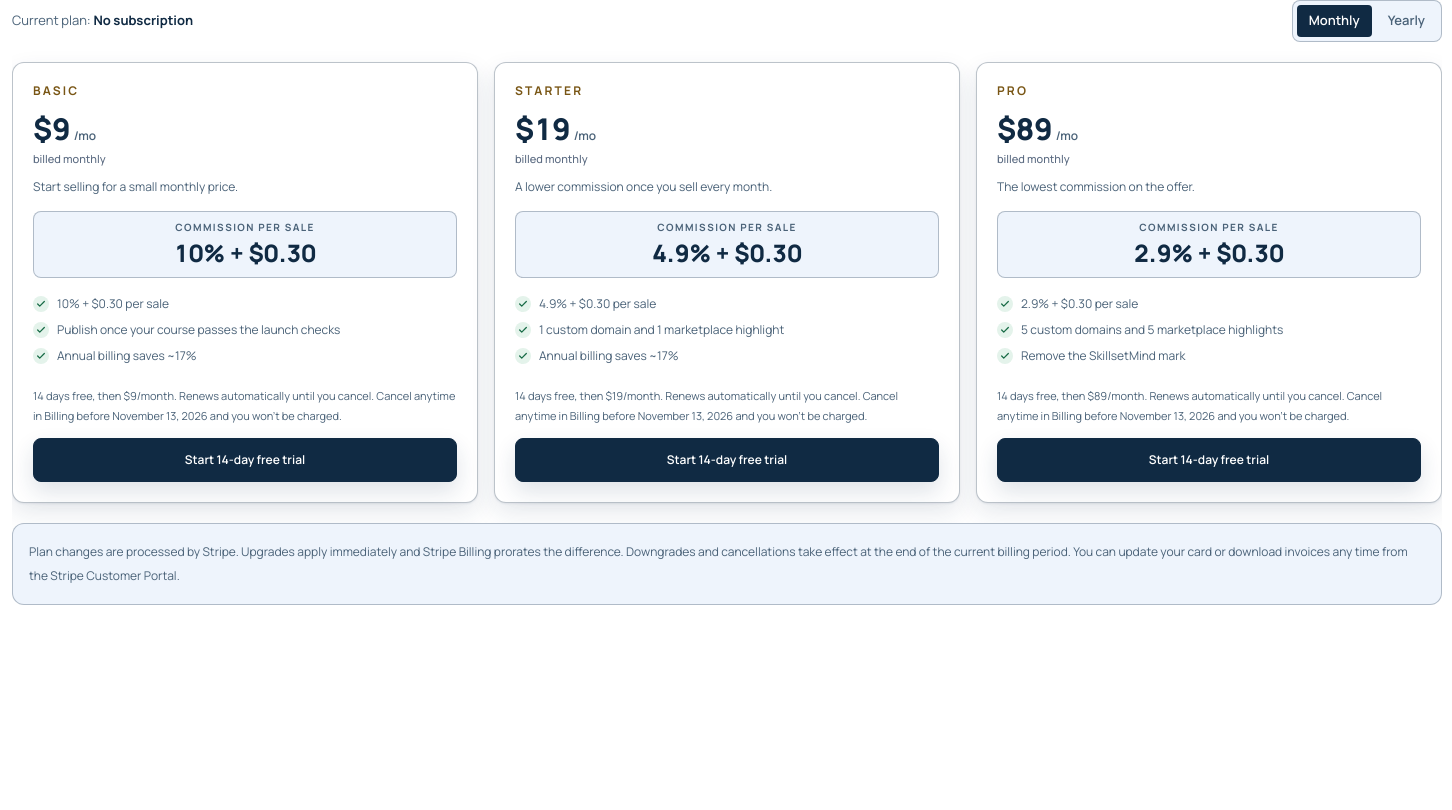
Test: PlansPanel com os 2 planos e o teste gratis › oferece o teste de 14 dias com os termos de renovacao junto do botao
Click the radio button labelled "Yearly" at (1406, 21), box left=1376, top=5, right=1437, bottom=36
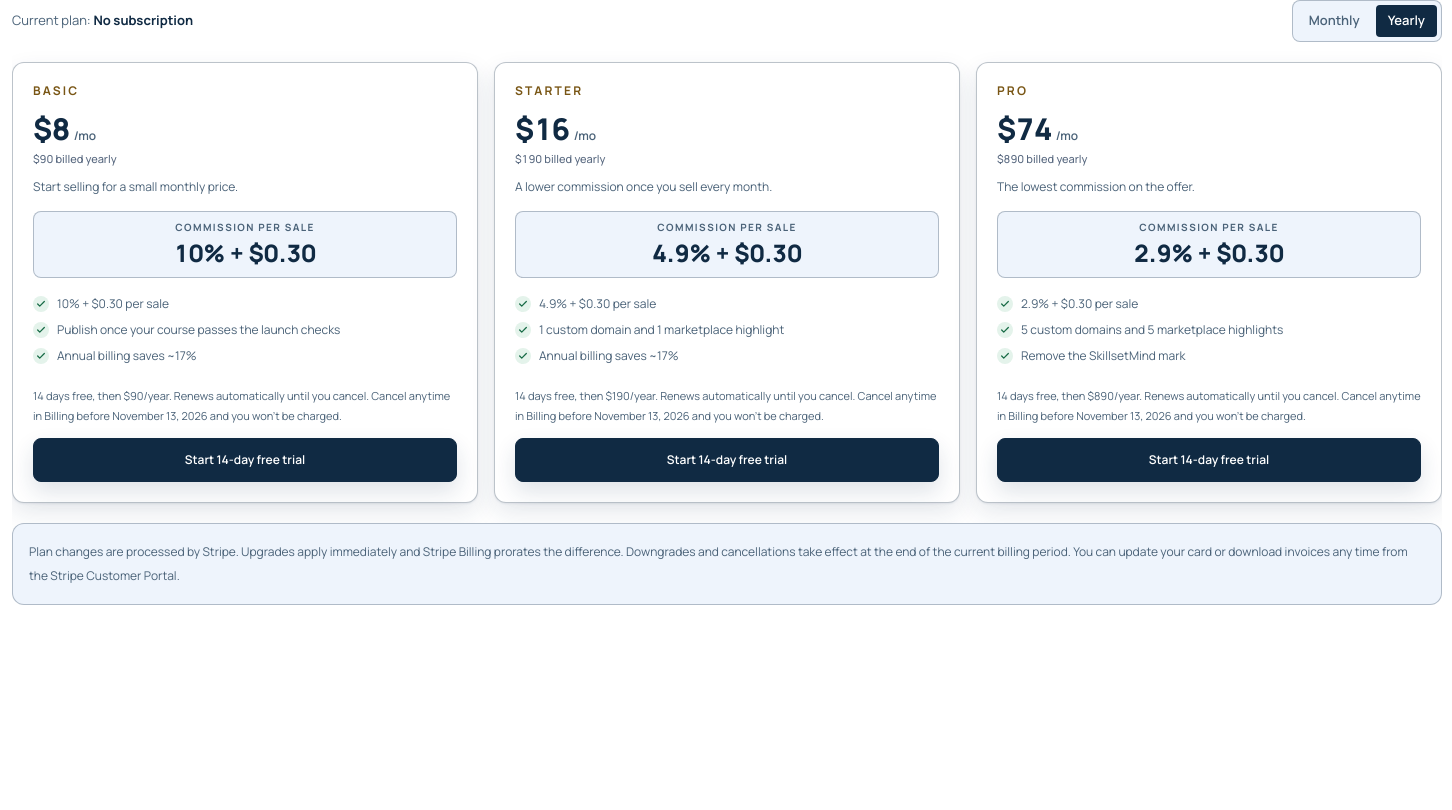
Expected: the element that starts with "Pro" shows "14 days free, then $890/year.", left=997, top=388, right=1421, bottom=423
